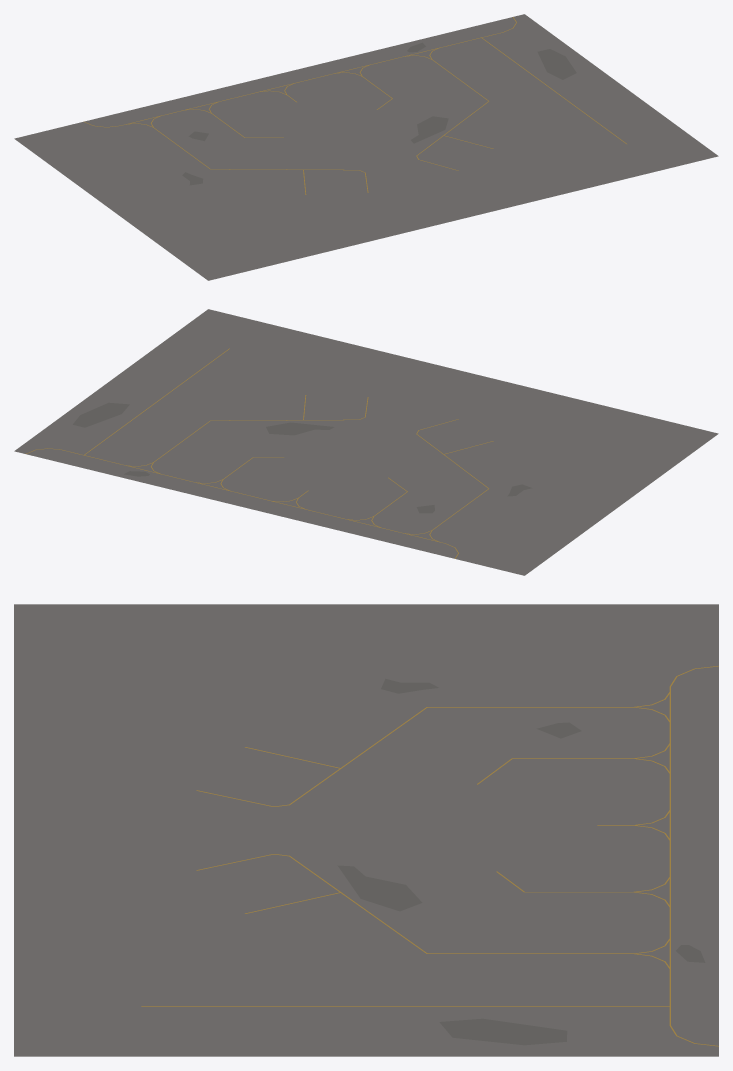
The model's file is SM_Envr_Airport_Apron_01.fbx.
3 renders of one model, top to bottom at view 1: azimuth 30°, elevation 25°; view 2: azimuth 150°, elevation 25°; view 3: azimuth 270°, elevation 25°, orthographic. The views are drawn at different scales.
Visible parts, largest first — view 1: SM_Envr_Airport_Apron_01; view 2: SM_Envr_Airport_Apron_01; view 3: SM_Envr_Airport_Apron_01.
Part boxes in pixels (x1,y1,x2,y2): SM_Envr_Airport_Apron_01: (14,14,718,280); SM_Envr_Airport_Apron_01: (14,309,718,575); SM_Envr_Airport_Apron_01: (14,604,718,1056).
Bounding box in the file's own units: 44000 × 5.59e-06 × 29000.
